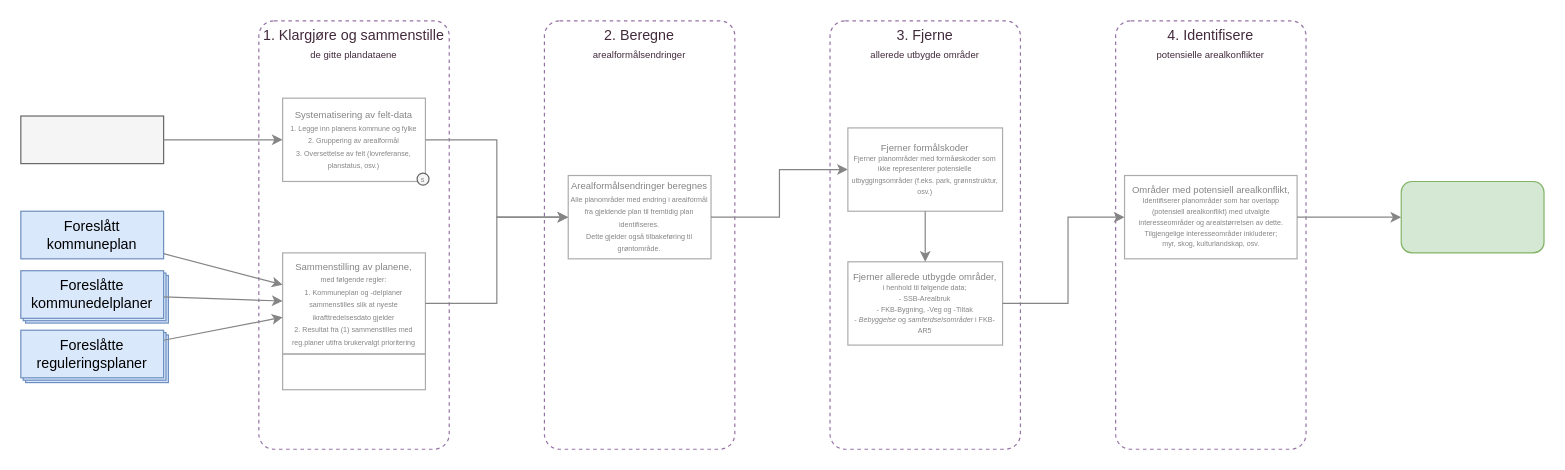
The diagram is 1565 pixels wide and 470 high, and some of its shapes have lost their labels. Here are the shapes that lost their labels. From the top down, the box of each, then its label:
(20, 115, 164, 164): Gjeldende kommuneplan
(1400, 180, 1544, 253): Arealregnskap som fremstilles i kartet
(281, 353, 425, 390): Systematisering av felt-data samme prosedyre som (s)
